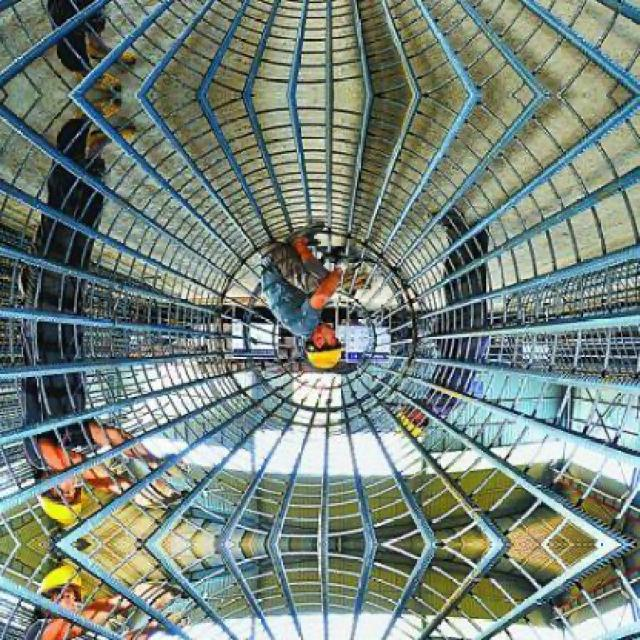con casco: (299, 338, 347, 380)
